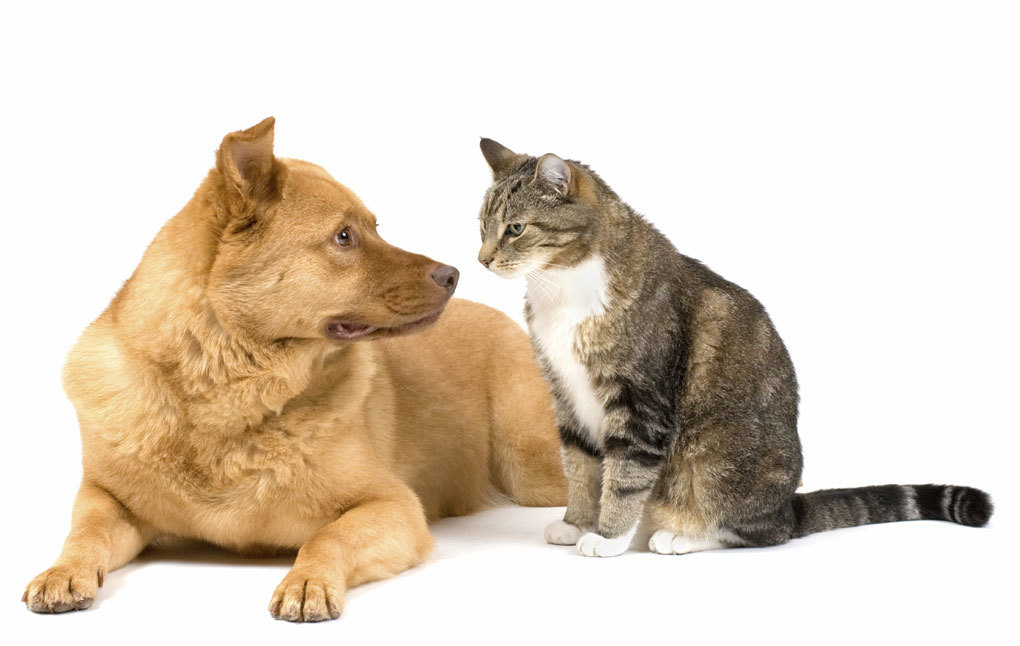cat: (469, 136, 996, 550)
dog: (25, 121, 566, 617)
